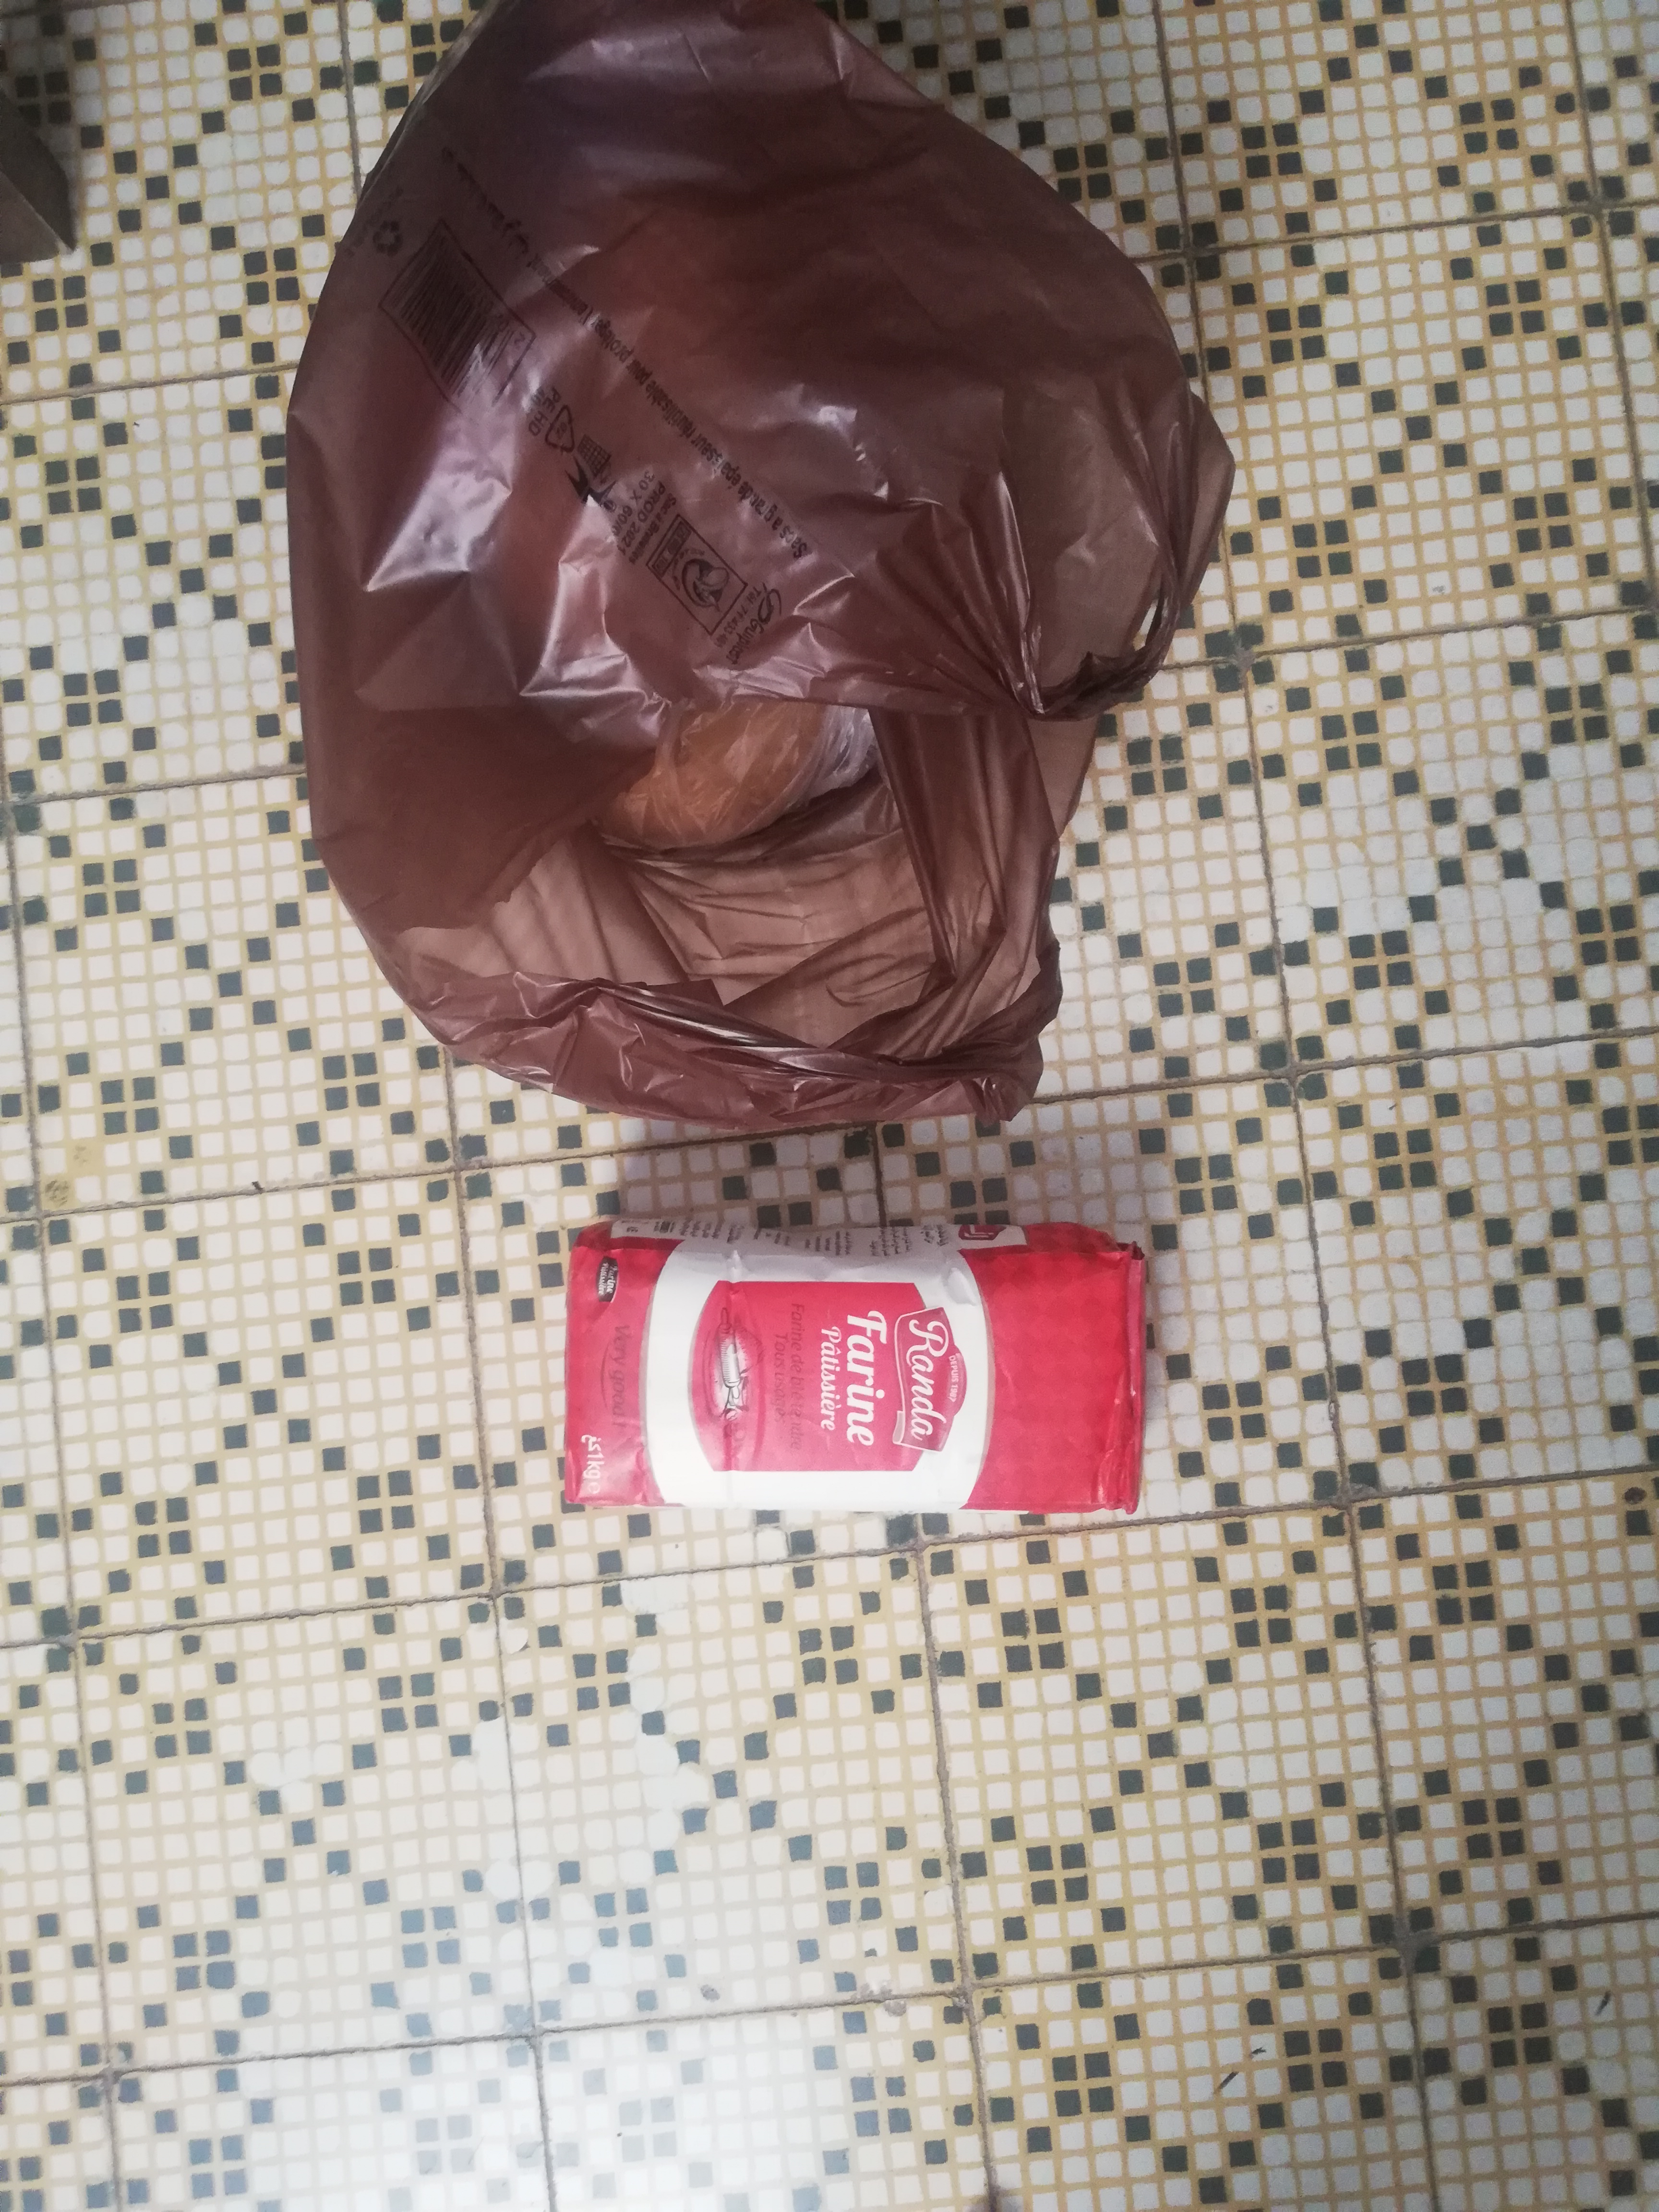Farine Randa: (561, 1219, 1159, 1524)
